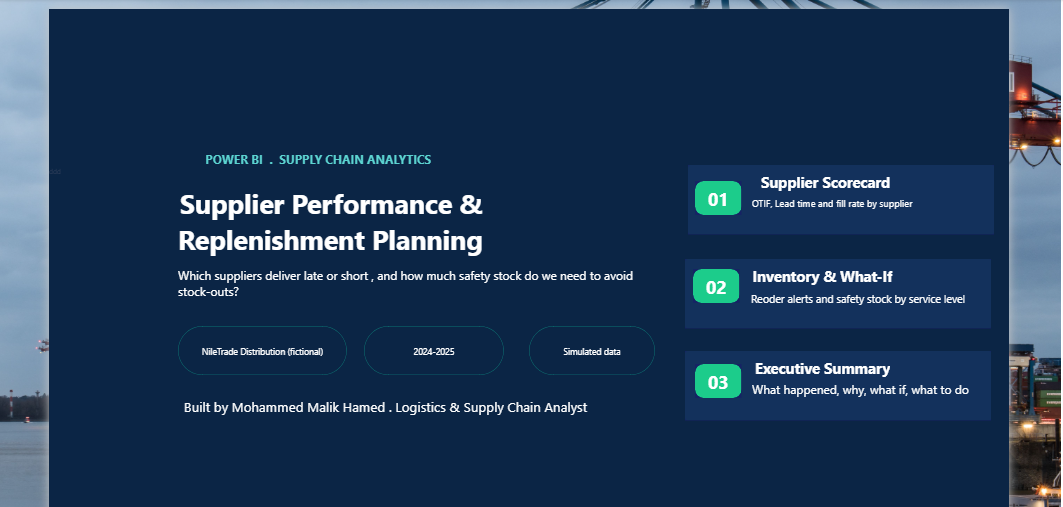

The dashboard page shown, as its layout file describes it:
{"tool":"powerbi","page":{"name":"Home","canvas":[1920,1080],"ordinal":0},"visuals":[{"type":"textbox","box":[257,516.5,955,194],"z":0},{"type":"textbox","box":[257,352.8,616.5,163.7],"z":1000},{"type":"textbox","box":[0,284.7,985.2,206.6],"z":2000},{"type":"shape","box":[257,635,337.6,98.3],"z":3000},{"type":"shape","box":[629.9,635,279.7,98.3],"z":4000},{"type":"shape","box":[960,635,252,98.3],"z":5000},{"type":"textbox","box":[269.6,776.1,985.2,246.9],"z":6000},{"type":"actionButton","box":[1277.5,312.4,612.3,138.6],"z":7000},{"type":"textbox","box":[1405.3,376.3,448.5,93.2],"z":8000},{"type":"shape","box":[1291.9,343.3,93.2,68],"z":9000},{"type":"actionButton","box":[1271.5,501,612.3,138.6],"z":10000},{"type":"shape","box":[1287.3,520.5,93.2,68],"z":11000},{"type":"actionButton","box":[1271.3,684.6,612.3,138.6],"z":12000},{"type":"textbox","box":[1403.8,564.6,448.5,93.2],"z":13000},{"type":"shape","box":[1291.1,709.1,93.2,68],"z":14000},{"type":"textbox","box":[1405.3,744.1,448.5,93.2],"z":15000}]}

Visuals, with their boxes on the page's 1920x1080 design canvas (x1, y1, x2, y2). These are canvas units, not pixel positions in the 1063x507 screenshot, which may show the page scaled, cropped or inside an application window:
textbox: {"left": 257, "top": 516, "right": 1212, "bottom": 710}
textbox: {"left": 257, "top": 353, "right": 874, "bottom": 516}
textbox: {"left": 0, "top": 285, "right": 985, "bottom": 491}
shape: {"left": 257, "top": 635, "right": 595, "bottom": 733}
shape: {"left": 630, "top": 635, "right": 910, "bottom": 733}
shape: {"left": 960, "top": 635, "right": 1212, "bottom": 733}
textbox: {"left": 270, "top": 776, "right": 1255, "bottom": 1023}
actionButton: {"left": 1278, "top": 312, "right": 1890, "bottom": 451}
textbox: {"left": 1405, "top": 376, "right": 1854, "bottom": 470}
shape: {"left": 1292, "top": 343, "right": 1385, "bottom": 411}
actionButton: {"left": 1272, "top": 501, "right": 1884, "bottom": 640}
shape: {"left": 1287, "top": 520, "right": 1380, "bottom": 588}
actionButton: {"left": 1271, "top": 685, "right": 1884, "bottom": 823}
textbox: {"left": 1404, "top": 565, "right": 1852, "bottom": 658}
shape: {"left": 1291, "top": 709, "right": 1384, "bottom": 777}
textbox: {"left": 1405, "top": 744, "right": 1854, "bottom": 837}
